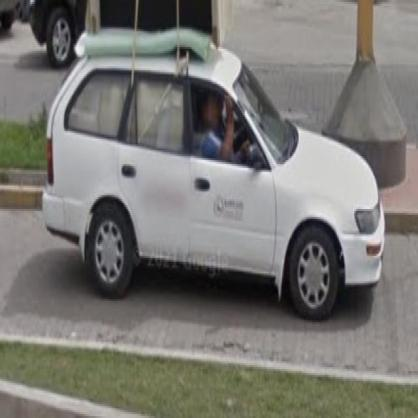car: (39, 25, 387, 328)
